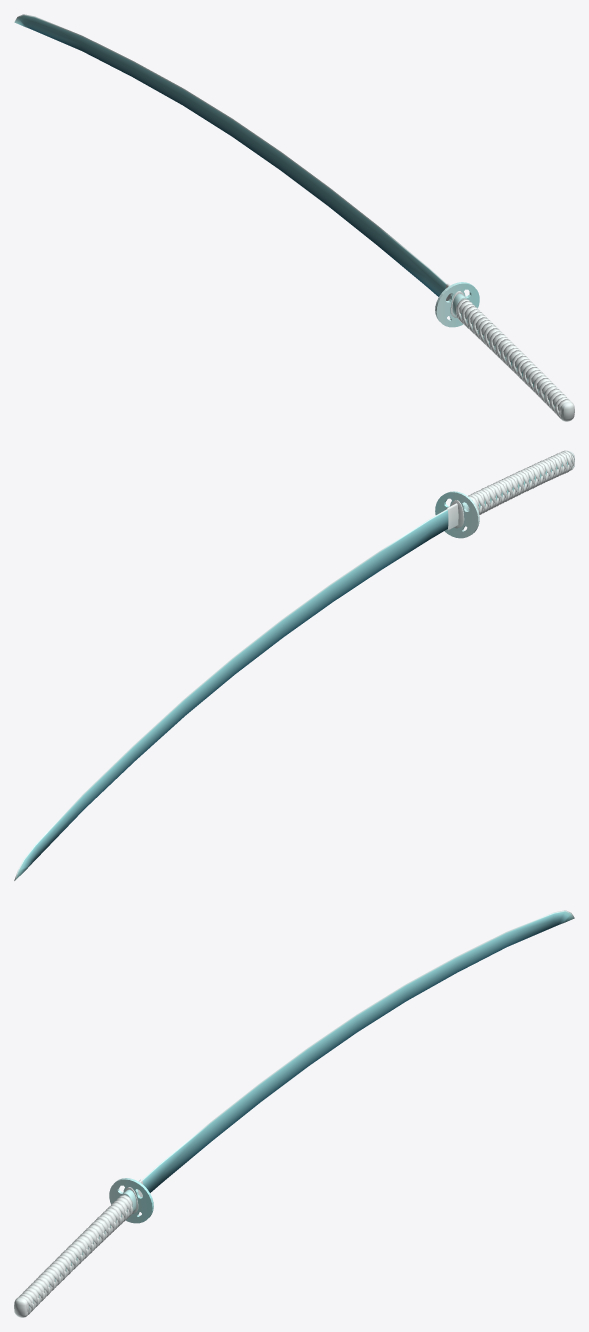
File: Nodachi_Sword.gltf
3 renders of one model, top to bottom at view 1: azimuth 30°, elevation 25°; view 2: azimuth 150°, elevation 25°; view 3: azimuth 330°, elevation 25°, orthographic.
Parts seen in each view (by area): view 1: Nodachi_Sword; view 2: Nodachi_Sword; view 3: Nodachi_Sword.
Part boxes in pixels (x1,y1,x2,y2): Nodachi_Sword: [14, 14, 574, 421]; Nodachi_Sword: [14, 450, 574, 880]; Nodachi_Sword: [14, 910, 574, 1317].
Size of the model in its own units: 0.0875 by 0.1282 by 1.96.
1 material, 1 textured.
